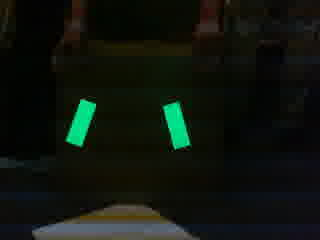target: (63, 95, 193, 150)
